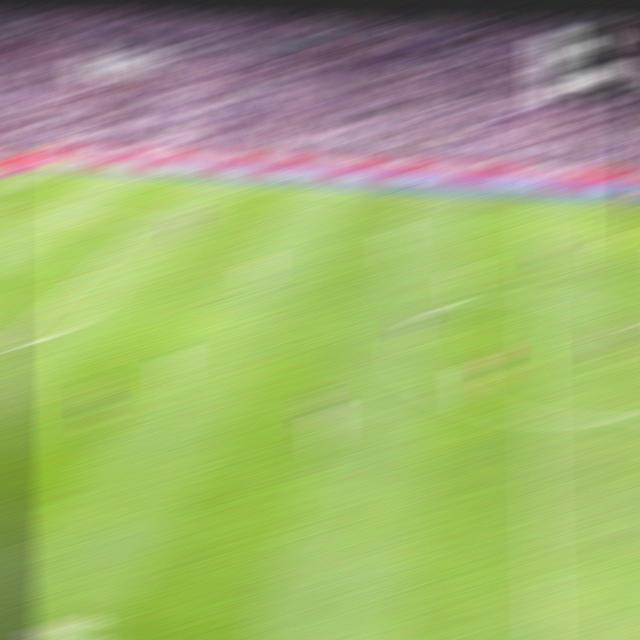bigarea_top_inner: (135, 216, 158, 225)
corner: (37, 165, 62, 171)
halfcircle_bottom: (523, 405, 552, 429)
halfcircle_top: (521, 287, 550, 307)
midline_top_intersection: (522, 194, 545, 203)
top_arc_area_intersection: (78, 263, 103, 275)
